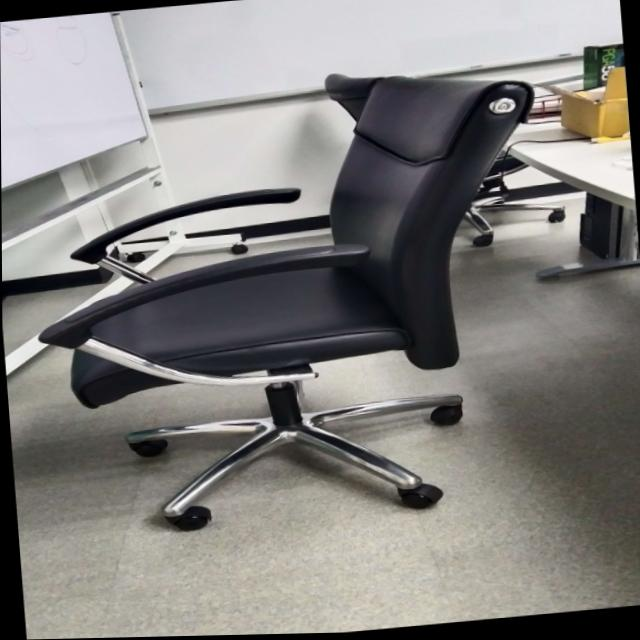chair: (2, 47, 582, 558)
